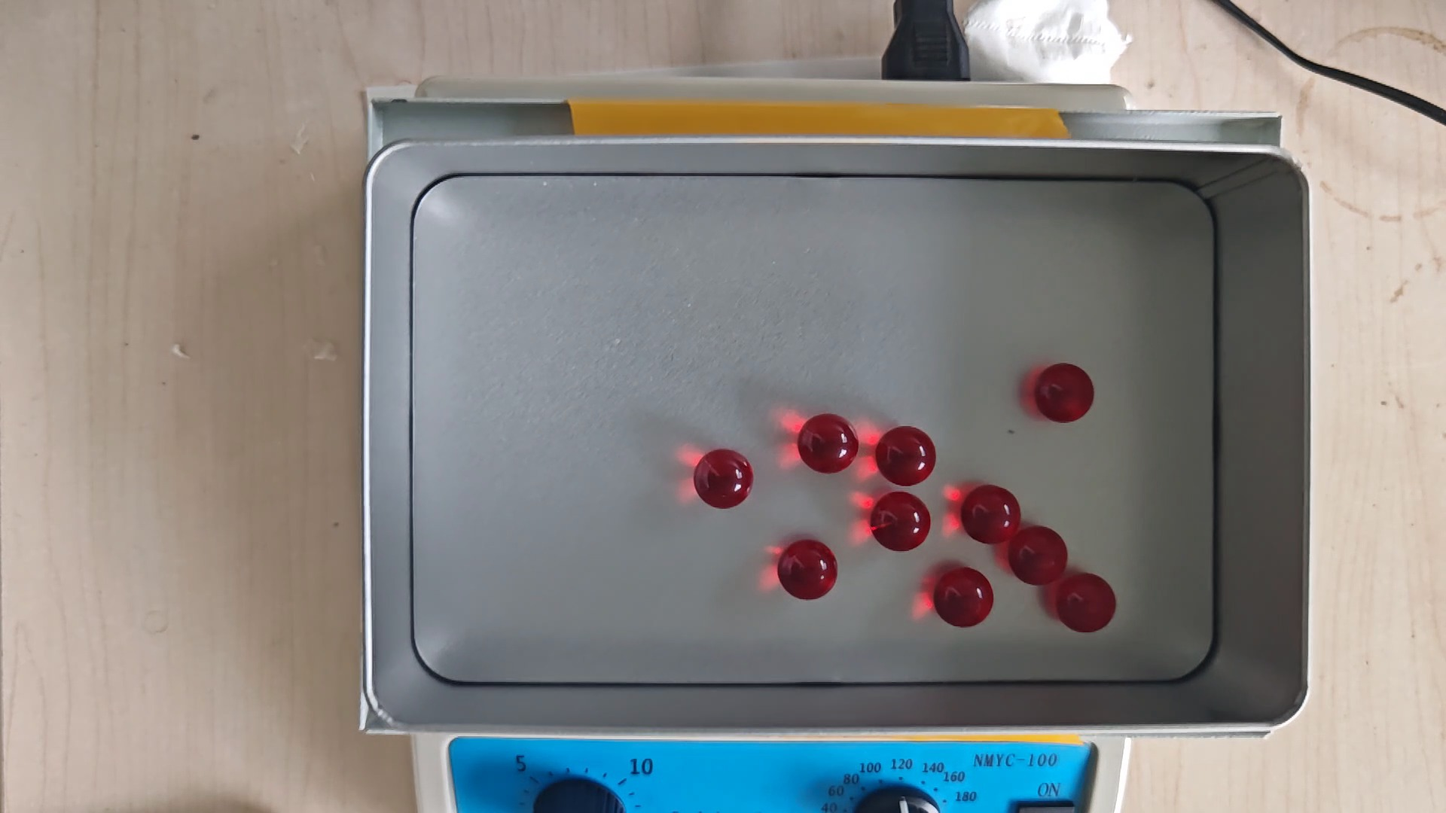ball: (778, 538, 839, 601), (870, 491, 931, 552), (1035, 362, 1095, 424), (694, 447, 754, 509), (798, 413, 858, 474), (934, 567, 993, 629), (961, 484, 1021, 544), (877, 426, 936, 487), (1010, 525, 1068, 586), (1057, 574, 1116, 633)
container: (411, 175, 1215, 684)
